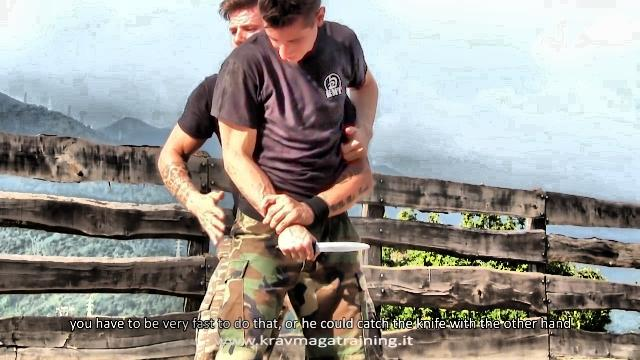knife: (271, 228, 374, 260)
